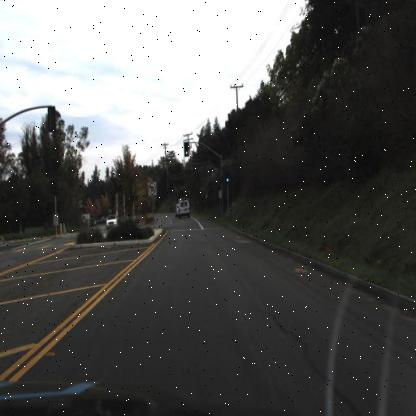car: (104, 211, 120, 233), (102, 213, 119, 231), (176, 198, 192, 217)
trafficLight-Green: (225, 166, 232, 188), (184, 141, 191, 160), (184, 142, 191, 158), (224, 170, 229, 187)
